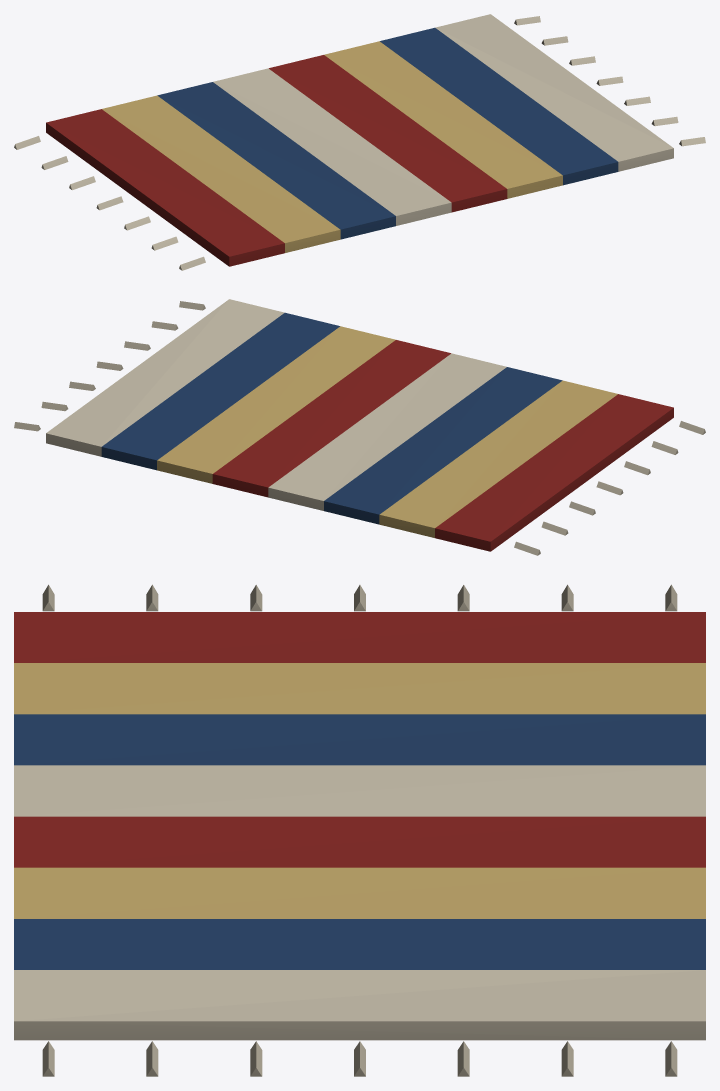
Rendered from rug.glb.
3 views of the same model, one above another, from view 1: azimuth 30°, elevation 25°; view 2: azimuth 150°, elevation 25°; view 3: azimuth 270°, elevation 25° (orthographic). The views are drawn at different scales.
Visible parts, largest first — view 1: base; view 2: base; view 3: base.
Boxes of the visible parts, left/top/right/bottom form: base: left=14, top=14, right=705, bottom=270; base: left=14, top=299, right=705, bottom=555; base: left=14, top=584, right=705, bottom=1076.
Bounding box in the file's own units: 0.6608 × 0.012 × 0.4.
